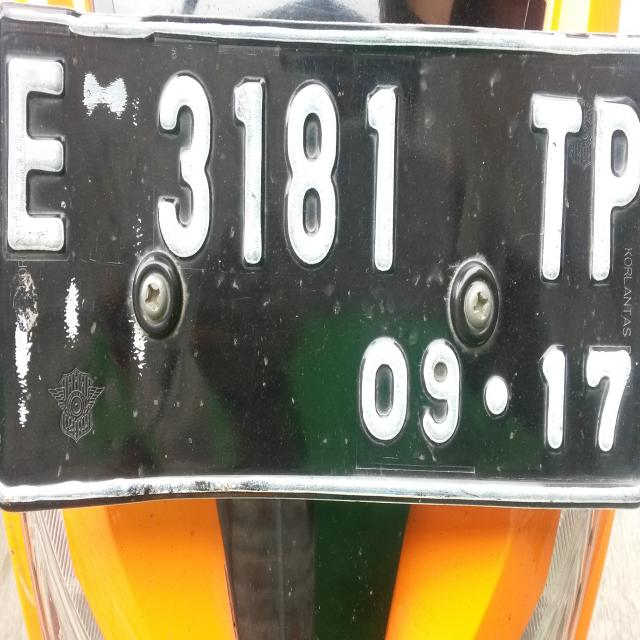plate: (2, 3, 640, 514)
